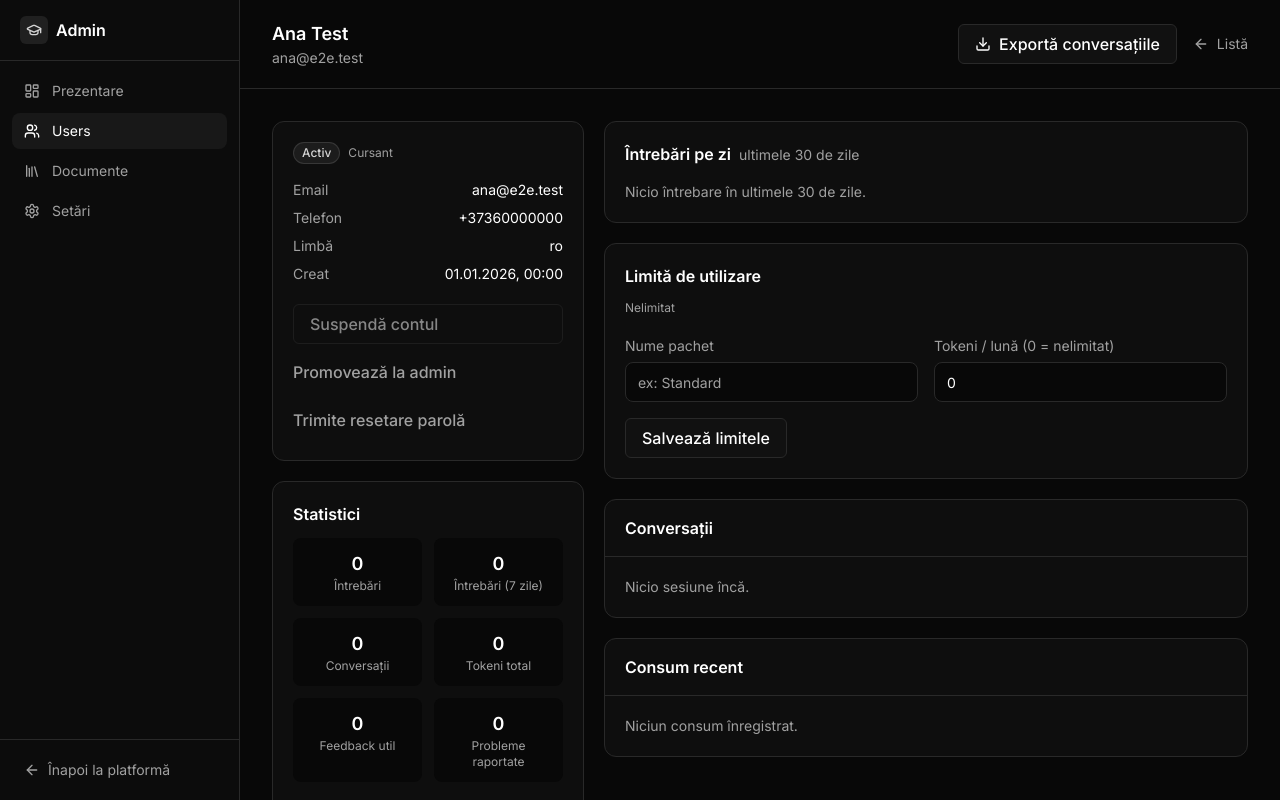
Test: ADMIN-05 User detail › ADMIN-05 action failed (S6): suspend refused → “A apărut o eroare. Încearcă din nou.” next to “Suspendă contul”
This screenshot has width=1280, height=800.
Click the button "Suspendă contul": (428, 324) [293, 304, 563, 344]
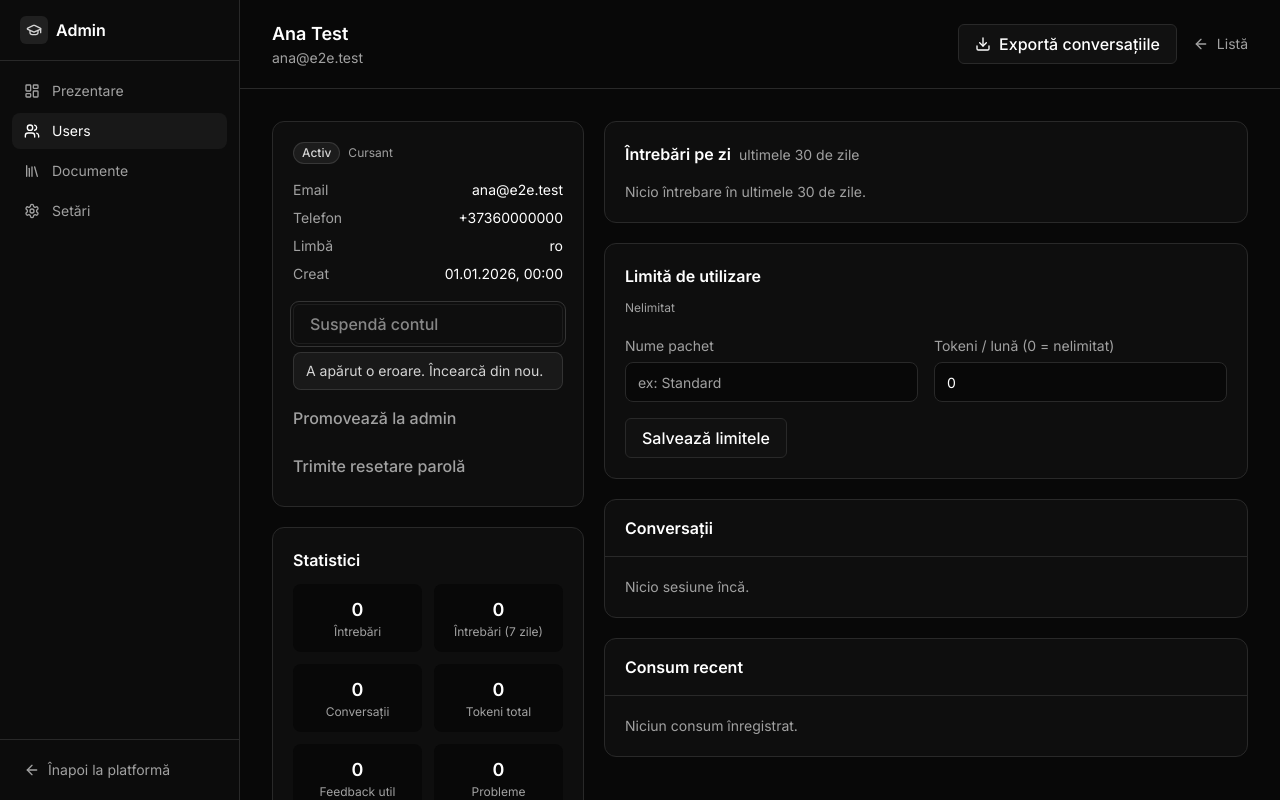
Now the message reads "A apărut o eroare. Încearcă din nou.", box [306, 362, 543, 379]
